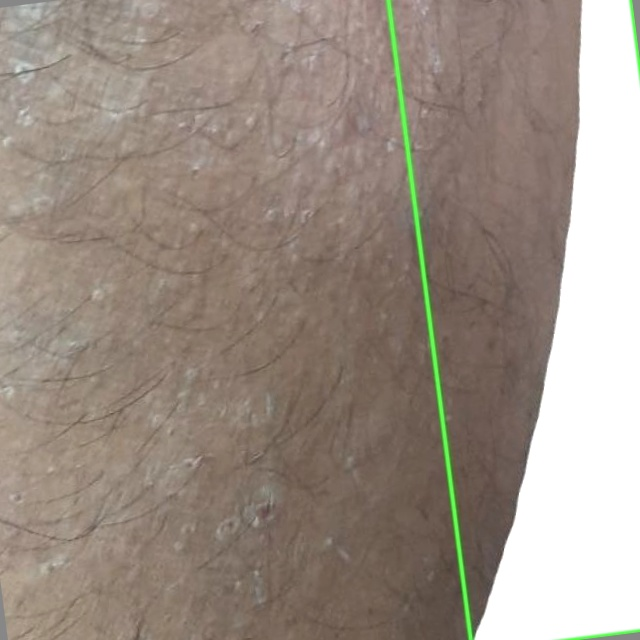Contact Dermatitis: (388, 0, 639, 639)
